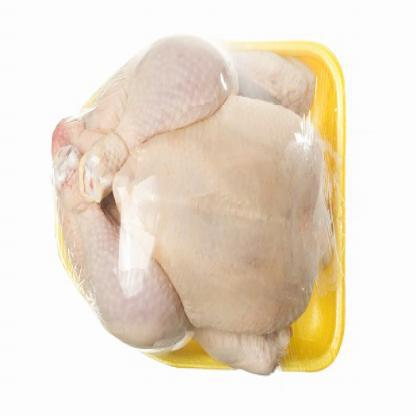chicken: (47, 43, 340, 374)
